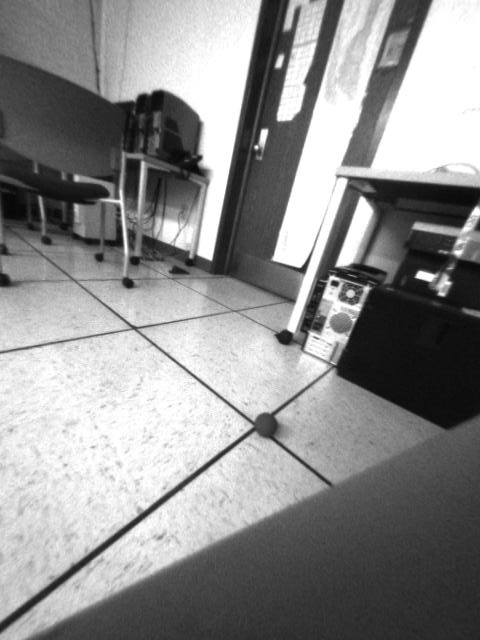dogtoy: (248, 403, 284, 446)
